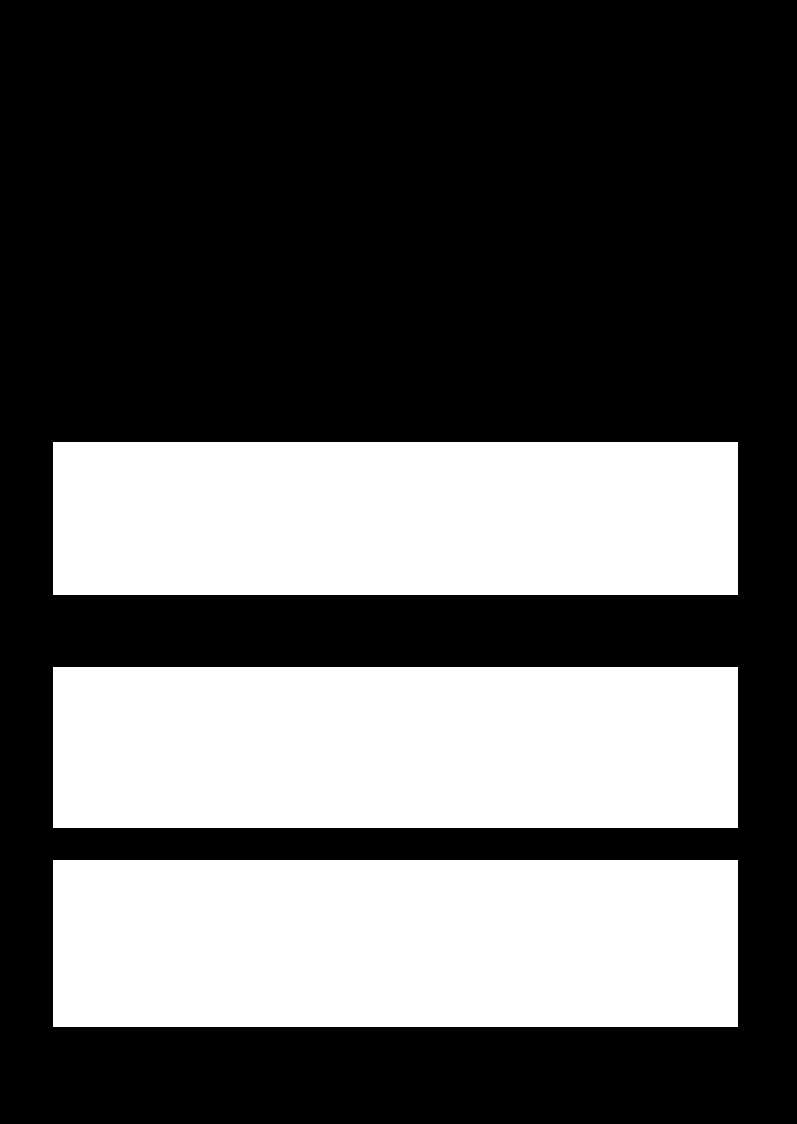table: (53, 860, 737, 1026), (53, 667, 737, 827), (53, 442, 737, 594)
